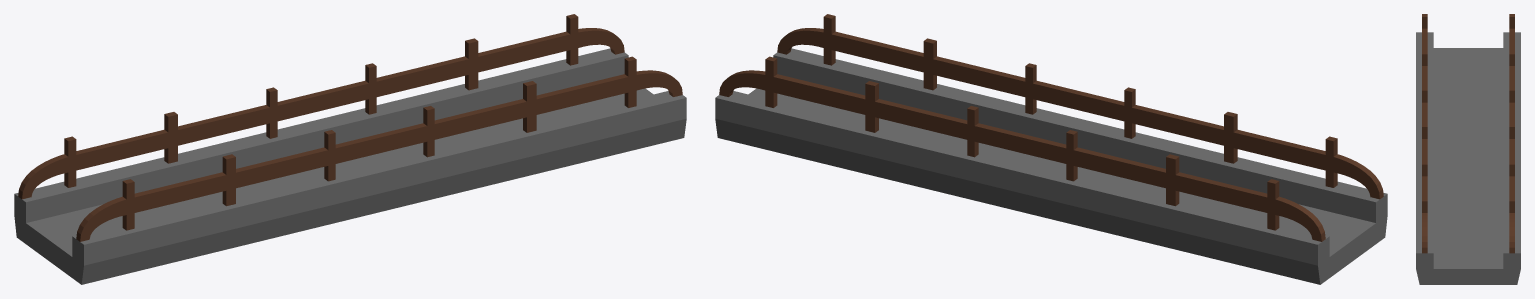
Rendered from bridge_medium.glb.
The picture shows the model from 3 angles, left to right: view 1: azimuth 30°, elevation 25°; view 2: azimuth 150°, elevation 25°; view 3: azimuth 270°, elevation 25°; orthographic projection. The views are drawn at different scales.
Visible parts, largest first — view 1: BridgeMedium; view 2: BridgeMedium; view 3: BridgeMedium.
Part boxes in pixels (x1,y1,x2,y2): BridgeMedium: (14,14,686,284); BridgeMedium: (715,14,1387,284); BridgeMedium: (1416,14,1520,284).
Bounding box in the file's own units: 29.92 × 4.21 × 6.
1 material, 1 textured.
